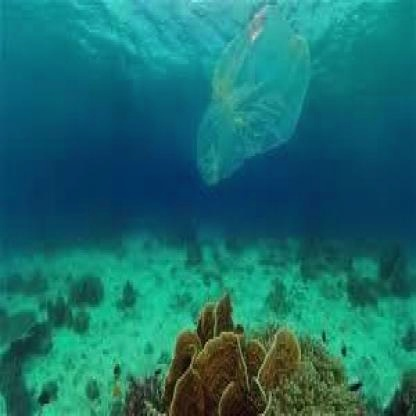pbag: (195, 7, 310, 188)
